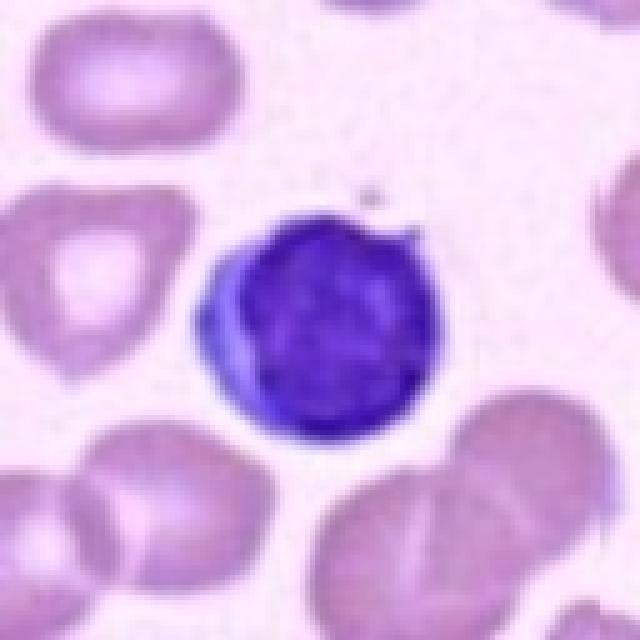lympho: (187, 187, 458, 467)
